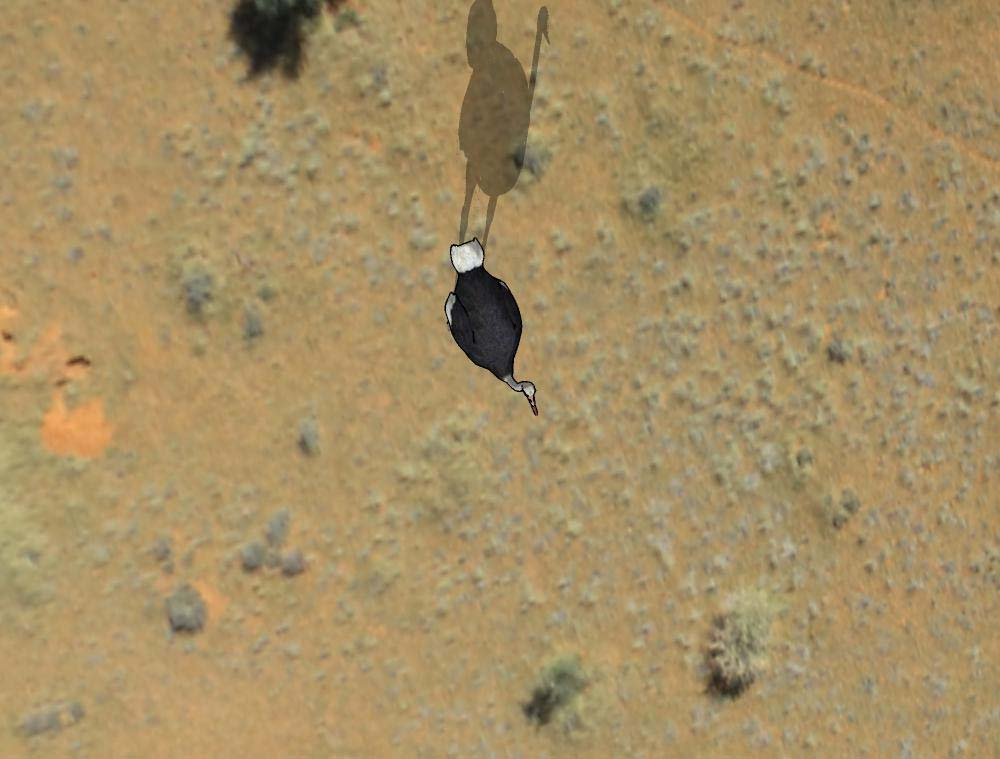springbok: (438, 237, 547, 424)
